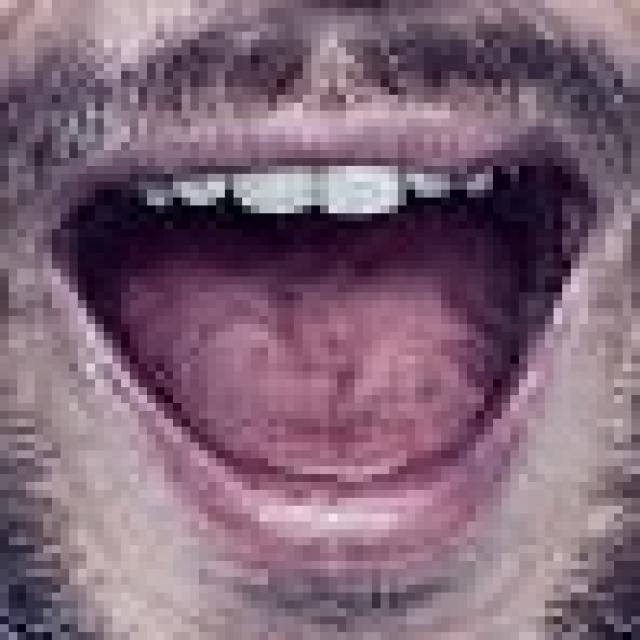open-mouth: (34, 110, 606, 576)
